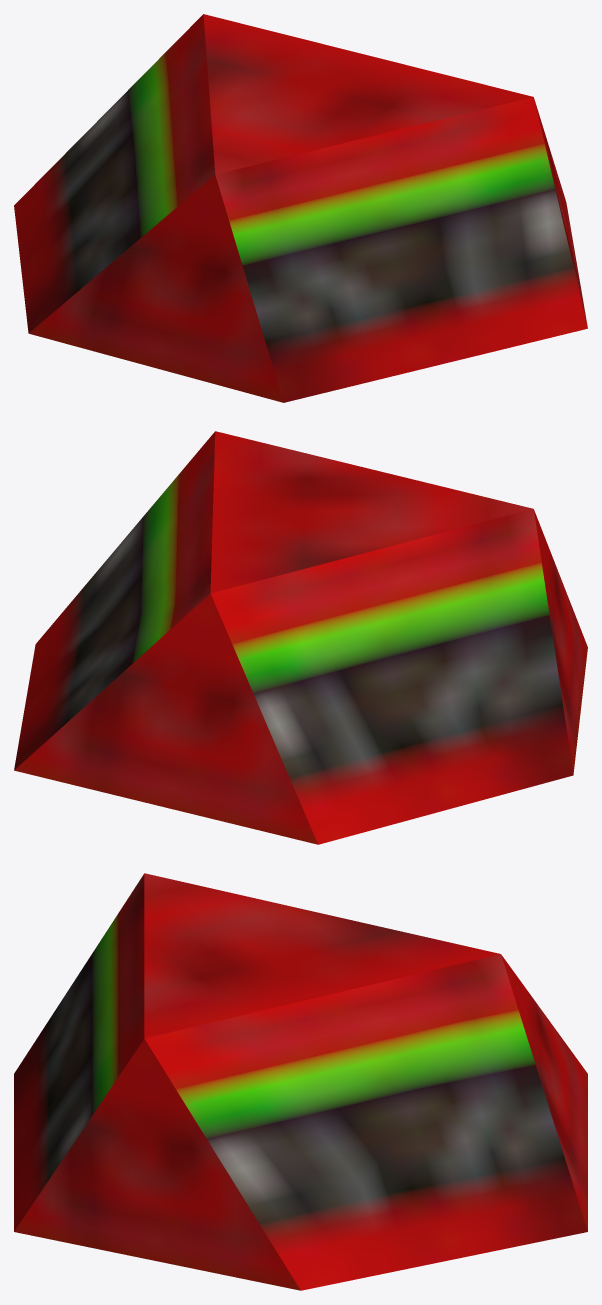
3 views of the same model, one above another, from view 1: azimuth 30°, elevation 25°; view 2: azimuth 150°, elevation 25°; view 3: azimuth 270°, elevation 25° (orthographic). The views are drawn at different scales.
Visible parts, largest first — view 1: root; view 2: root; view 3: root.
Boxes of the visible parts, box(x1,y1,x2,y2) form: root: box(14, 14, 587, 402); root: box(14, 431, 587, 844); root: box(14, 873, 587, 1290).
Size of the model in its own units: 0.1484 by 0.0488 by 0.1289.
Materials: 1 (1 with a texture image).
